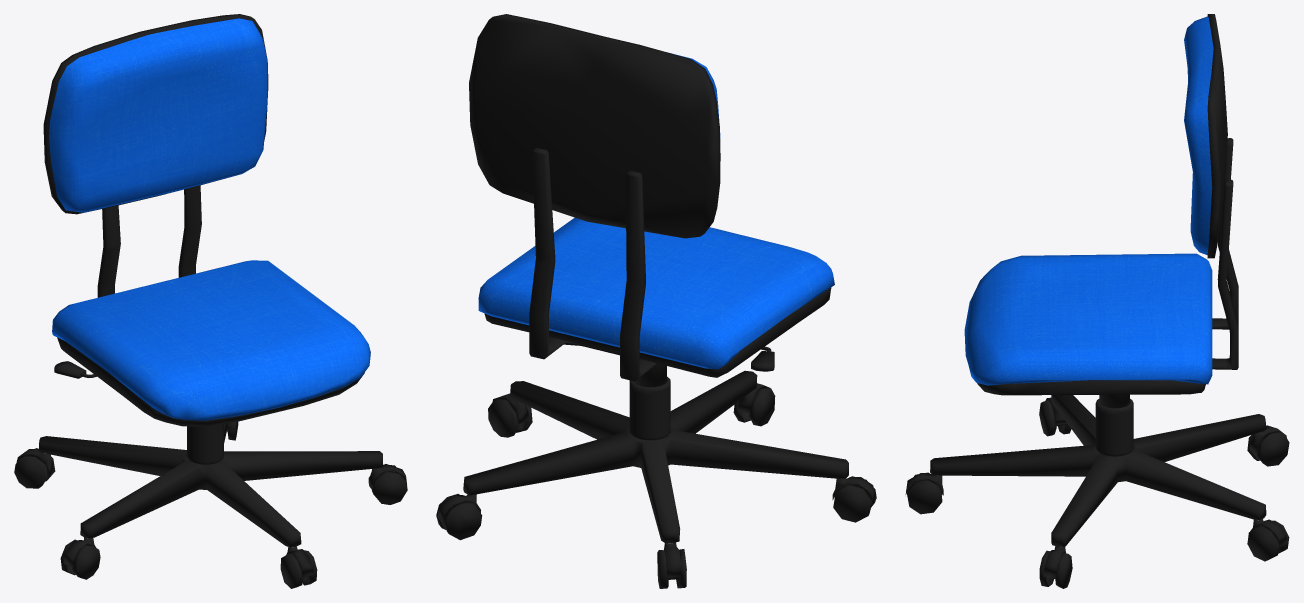
File: chair.glb
3 views of the same model, side by side, from view 1: azimuth 30°, elevation 25°; view 2: azimuth 150°, elevation 25°; view 3: azimuth 270°, elevation 25° (orthographic). The views are drawn at different scales.
Visible parts, largest first — view 1: Chair_Wheel; view 2: Chair_Wheel; view 3: Chair_Wheel.
Boxes of the visible parts, x1,y1,x2,y2 form: Chair_Wheel: (14, 14, 407, 588); Chair_Wheel: (436, 14, 876, 588); Chair_Wheel: (905, 14, 1289, 588).
Bounding box in the file's own units: 0.9478 × 1.19 × 0.9056.
5 materials, 1 textured.
